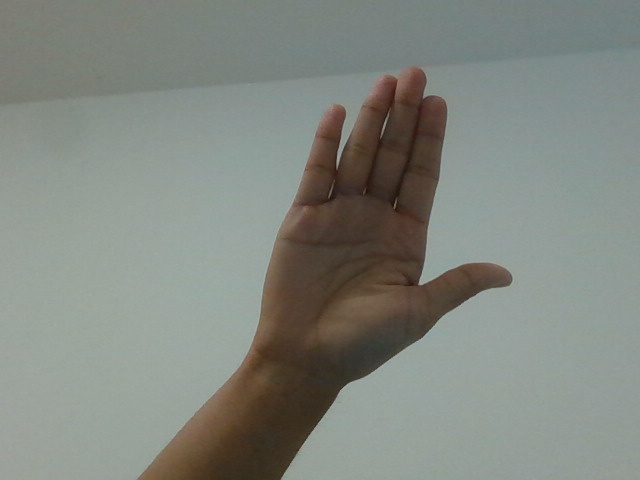open_hand: (235, 50, 523, 400)
